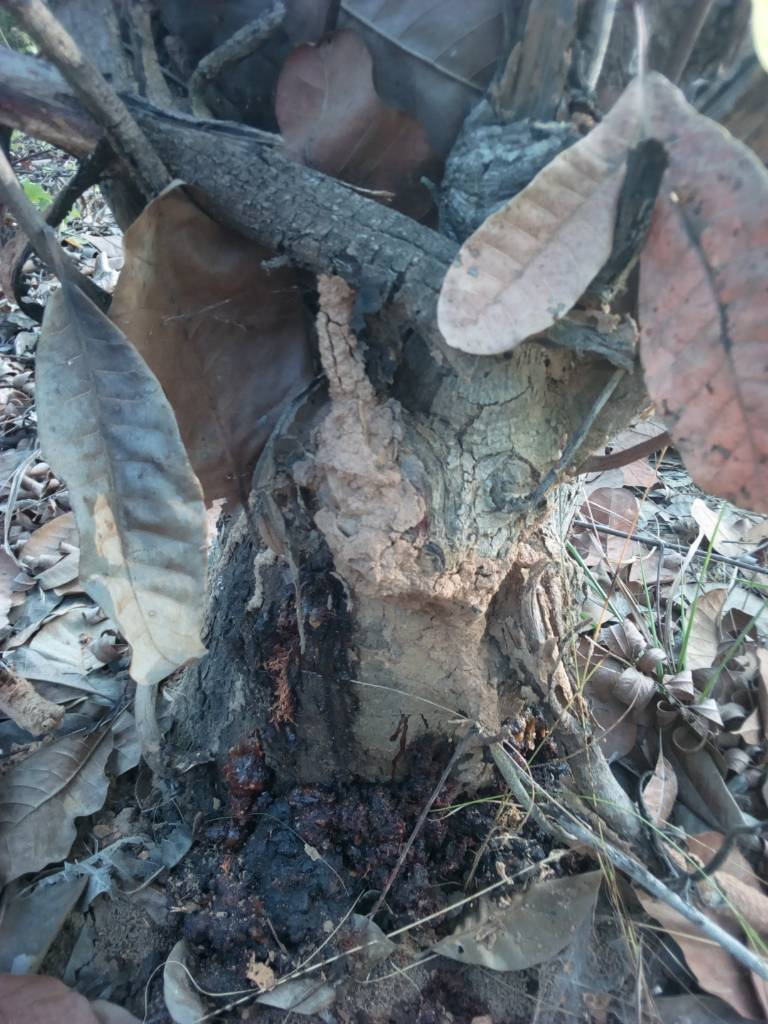Termites: (344, 466, 580, 758)
